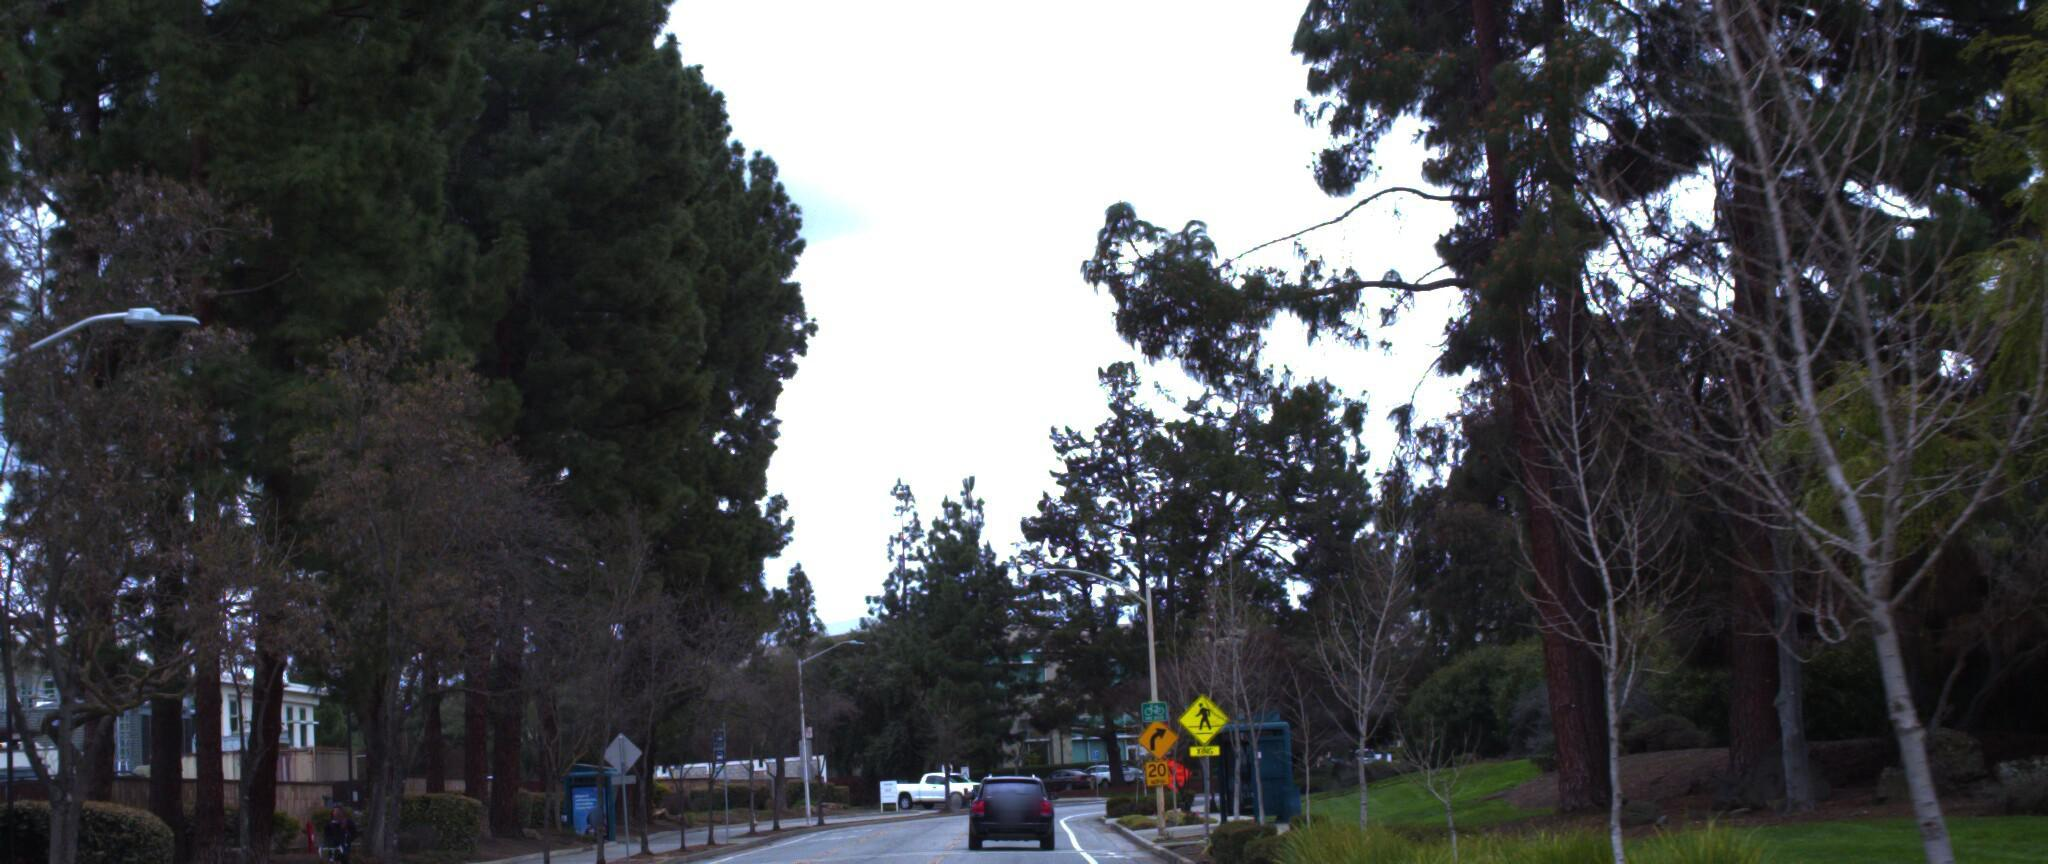bicycle: (317, 804, 374, 864)
car: (972, 745, 1062, 825)
